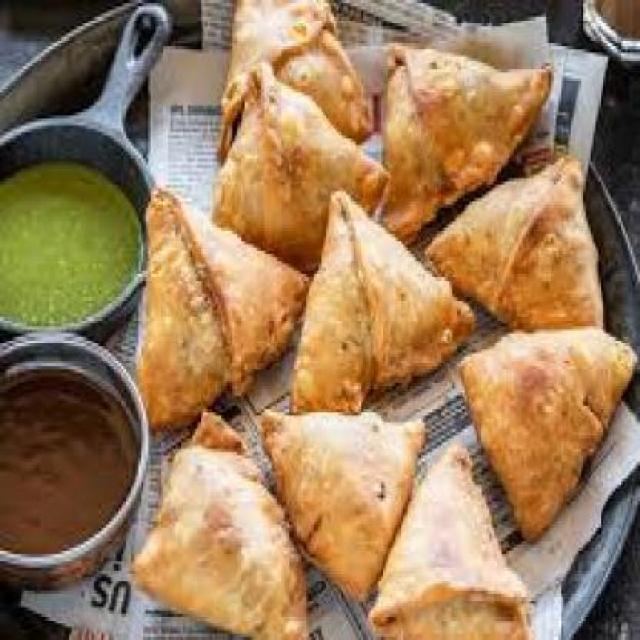samosa: (138, 190, 308, 436), (291, 189, 474, 414), (132, 412, 308, 640), (460, 328, 640, 543), (212, 63, 390, 277), (377, 44, 552, 244), (426, 157, 603, 335), (370, 446, 532, 640), (260, 411, 423, 595), (215, 0, 371, 166)
